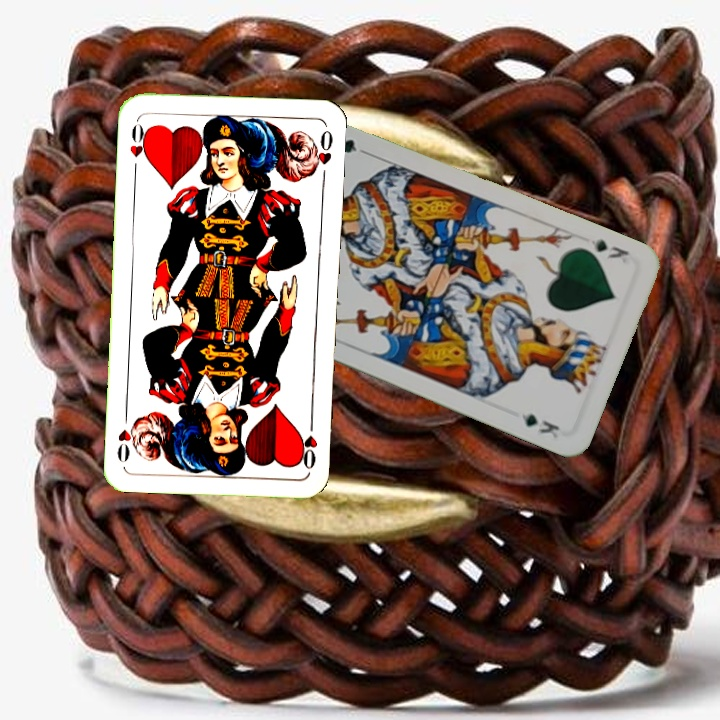GK: (587, 235, 631, 266)
HO: (125, 117, 151, 176), (297, 414, 321, 472)
